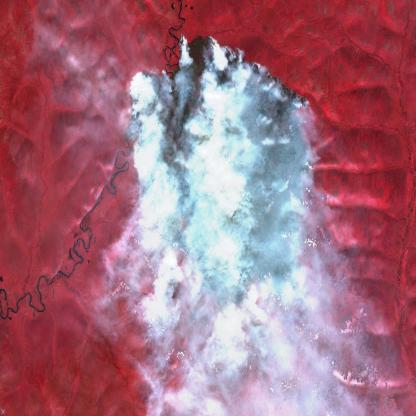fire: (123, 29, 320, 316)
